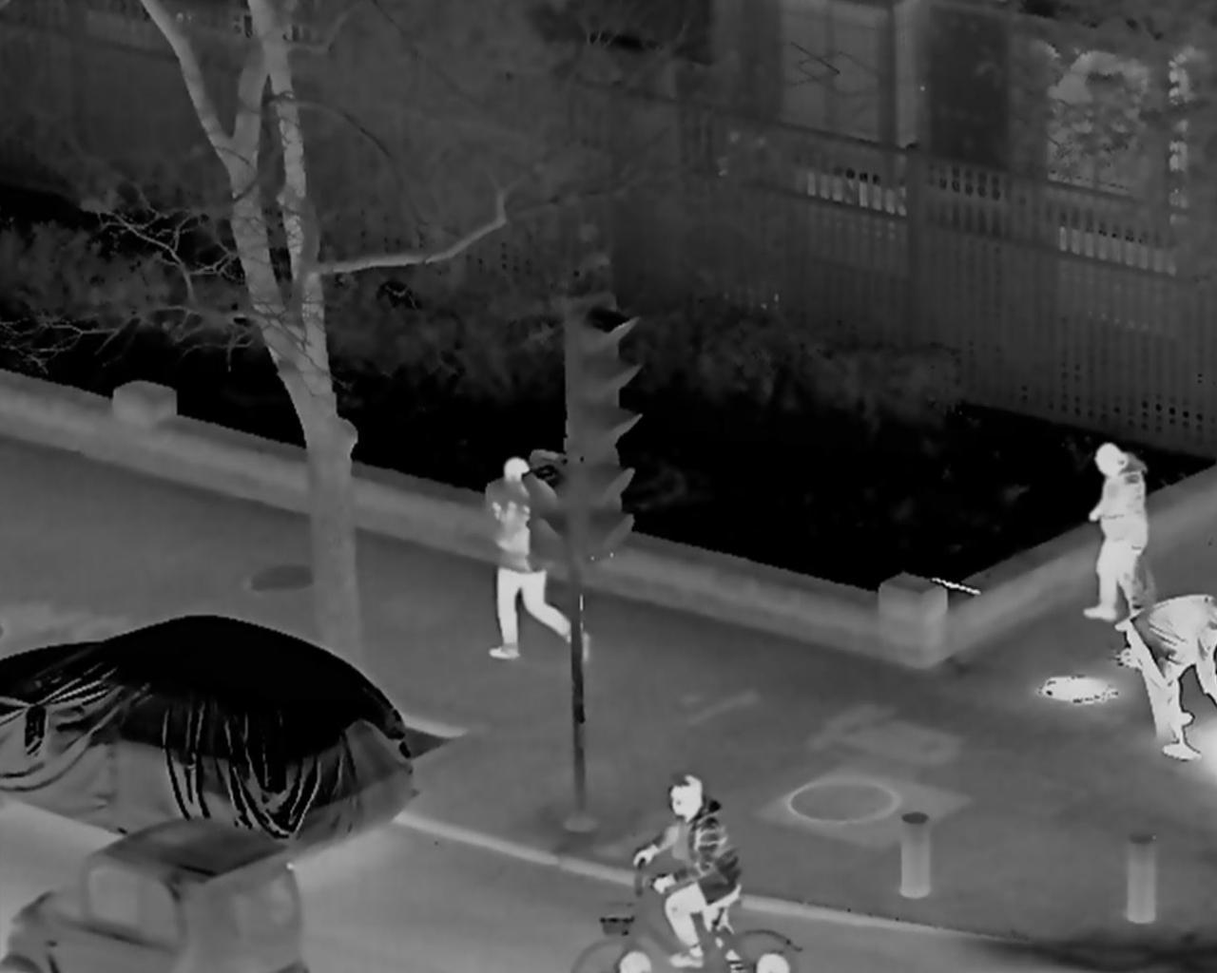person: (484, 455, 593, 668), (629, 773, 747, 968), (1130, 590, 1217, 750), (1083, 442, 1153, 623)
